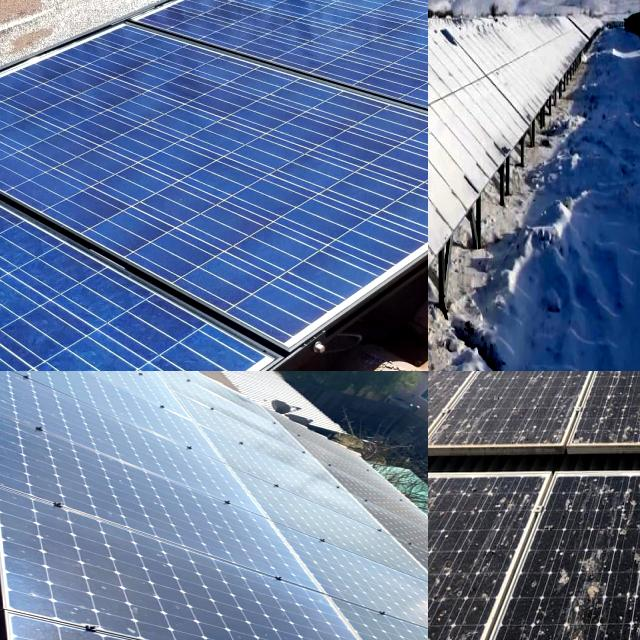bird: (433, 483, 533, 573), (549, 550, 606, 640), (568, 474, 640, 538), (428, 588, 479, 640), (617, 551, 640, 640)
crack: (114, 38, 350, 255), (0, 314, 112, 371), (289, 0, 381, 54), (49, 340, 196, 371), (0, 322, 51, 371)
dust: (288, 562, 403, 640)
panel: (428, 85, 480, 275), (428, 242, 490, 371), (428, 178, 482, 326), (428, 70, 482, 213), (472, 27, 550, 104), (428, 98, 482, 193), (428, 289, 480, 371), (428, 56, 472, 151), (428, 27, 499, 76), (428, 19, 516, 58), (428, 39, 472, 85)
